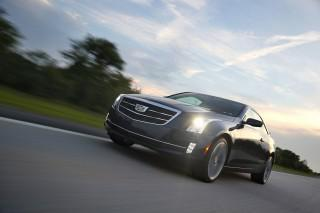cadillac: (132, 101, 150, 114)
